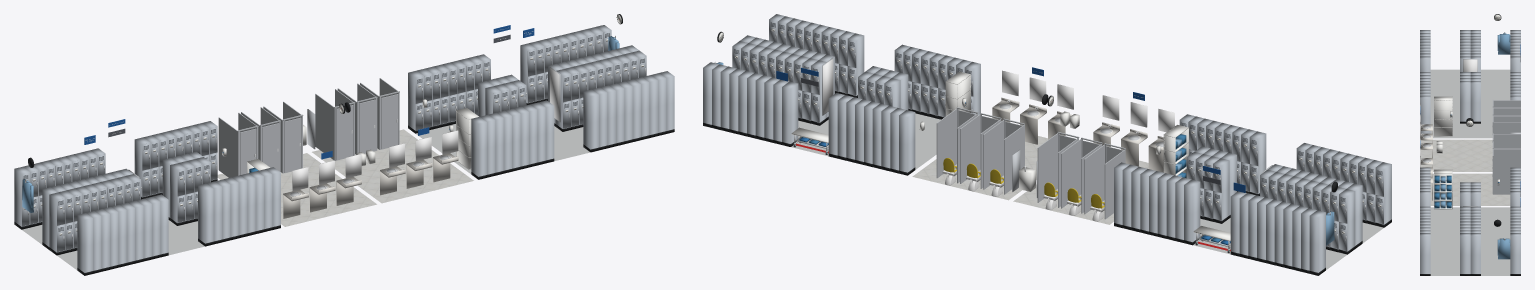
File: 14_n1_area_negra_vestidores.glb
The picture shows the model from 3 angles, left to right: view 1: azimuth 30°, elevation 25°; view 2: azimuth 150°, elevation 25°; view 3: azimuth 270°, elevation 25°; orthographic projection. The views are drawn at different scales.
Visible parts, largest first — view 1: locker_columna (×63), lavabo_ceramica (×6), cubículos de sanitario.001, cubículos de sanitario, piso · Sanitarios de quirófano · mujeres, piso · Sanitarios de quirófano · hombres, piso · Vestidor de quirófano · mujeres · lockers, piso · Vestidor de quirófano · hombres · lockers, dispensador_uniformes, espejo_cuerpo, mingitorio; view 2: locker_columna (×60), lavabo_ceramica (×6), cubículos de sanitario.001, cubículos de sanitario, dispensador_uniformes (×2), piso · Vestidor de quirófano · mujeres · lockers, piso · Sanitarios de quirófano · mujeres, banca_transfer_movil (×2), piso · Vestidor de quirófano · hombres · lockers, piso · Sanitarios de quirófano · hombres, mingitorio, espejo_cuerpo; view 3: locker_columna (×13), piso · Vestidor de quirófano · mujeres · lockers, piso · Vestidor de quirófano · hombres · lockers, piso · Sanitarios de quirófano · hombres, dispensador_uniformes (×2), cubículos de sanitario.001, piso · Sanitarios de quirófano · mujeres, cubículos de sanitario, bata_colgada (×2), lavabo_ceramica (×4), espejo_cuerpo.
Boxes of the visible parts, <box> form: locker_columna (×63): <box>14,41,674,275</box>; lavabo_ceramica (×6): <box>283,130,458,218</box>; cubículos de sanitario.001: <box>315,78,399,160</box>; cubículos de sanitario: <box>218,101,303,177</box>; piso · Sanitarios de quirófano · mujeres: <box>312,129,473,203</box>; piso · Sanitarios de quirófano · hombres: <box>217,153,376,226</box>; piso · Vestidor de quirófano · mujeres · lockers: <box>416,124,590,173</box>; piso · Vestidor de quirófano · hombres · lockers: <box>22,220,204,269</box>; dispensador_uniformes: <box>456,108,478,169</box>; espejo_cuerpo: <box>549,67,560,122</box>; mingitorio: <box>303,109,315,149</box>; locker_columna (×60): <box>703,31,1391,275</box>; lavabo_ceramica (×6): <box>992,70,1174,172</box>; cubículos de sanitario.001: <box>936,107,1024,194</box>; cubículos de sanitario: <box>1037,132,1125,219</box>; dispensador_uniformes (×2): <box>945,71,1188,178</box>; piso · Vestidor de quirófano · mujeres · lockers: <box>791,113,940,169</box>; piso · Sanitarios de quirófano · mujeres: <box>912,136,1047,200</box>; banca_transfer_movil (×2): <box>791,127,1230,252</box>; piso · Vestidor de quirófano · hombres · lockers: <box>1193,218,1383,269</box>; piso · Sanitarios de quirófano · hombres: <box>1013,160,1148,224</box>; mingitorio: <box>1012,150,1037,197</box>; espejo_cuerpo: <box>822,58,833,115</box>; locker_columna (×13): <box>1420,56,1520,275</box>; piso · Vestidor de quirófano · mujeres · lockers: <box>1430,207,1510,275</box>; piso · Vestidor de quirófano · hombres · lockers: <box>1430,69,1510,138</box>; piso · Sanitarios de quirófano · hombres: <box>1420,139,1492,171</box>; dispensador_uniformes (×2): <box>1434,96,1452,209</box>; cubículos de sanitario.001: <box>1492,133,1520,194</box>; piso · Sanitarios de quirófano · mujeres: <box>1430,173,1510,205</box>; cubículos de sanitario: <box>1492,99,1520,142</box>; bata_colgada (×2): <box>1497,32,1510,259</box>; lavabo_ceramica (×4): <box>1420,103,1432,167</box>; espejo_cuerpo: <box>1463,59,1477,71</box>.
Bounding box in the file's own units: 21.05 × 2.68 × 4.35.
Materials: 27 (4 with a texture image).
